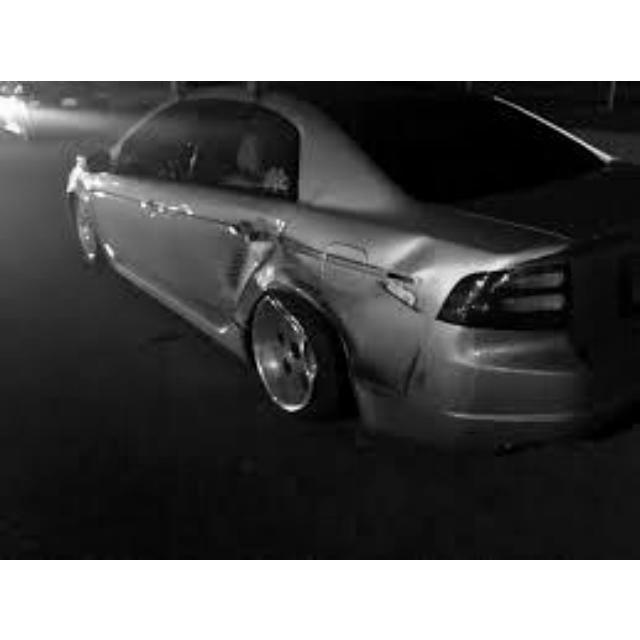doorouter-dent: (181, 199, 279, 317)
quaterpanel-dent: (294, 227, 434, 362)
